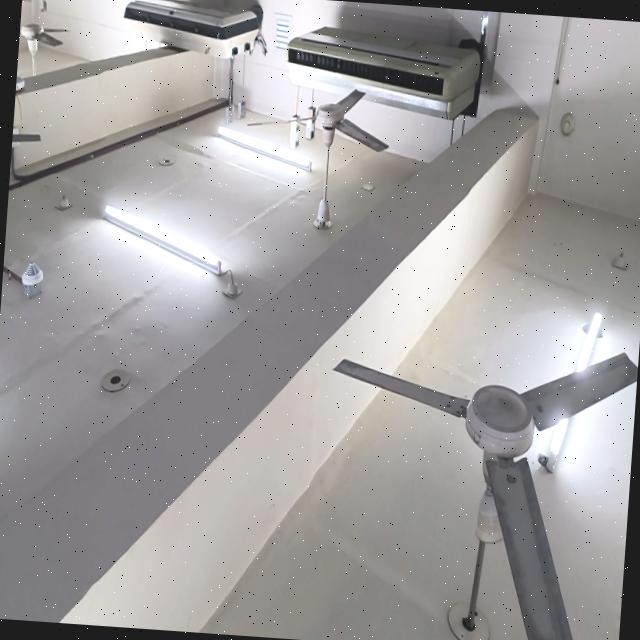Ac: (285, 27, 481, 120), (123, 0, 266, 58)
Light: (103, 206, 239, 297), (217, 125, 311, 171), (575, 313, 601, 372), (547, 419, 568, 471)
